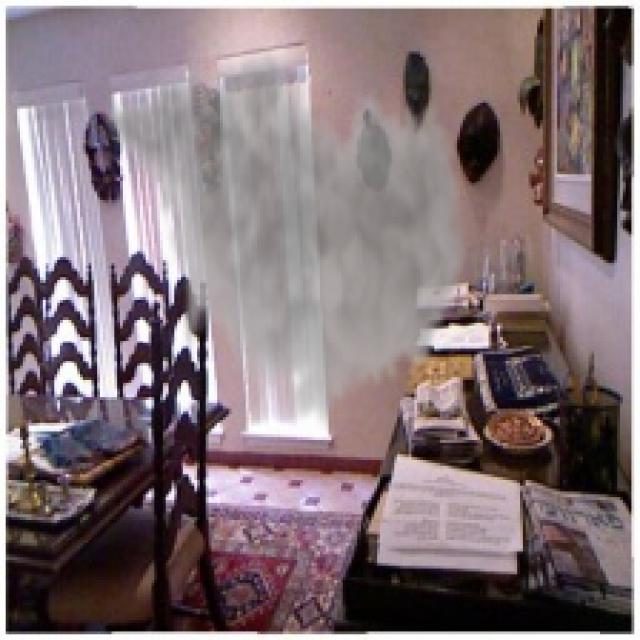smoke: (100, 37, 471, 437)
